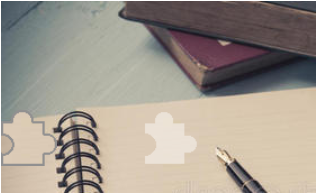target: (140, 108, 199, 167)
